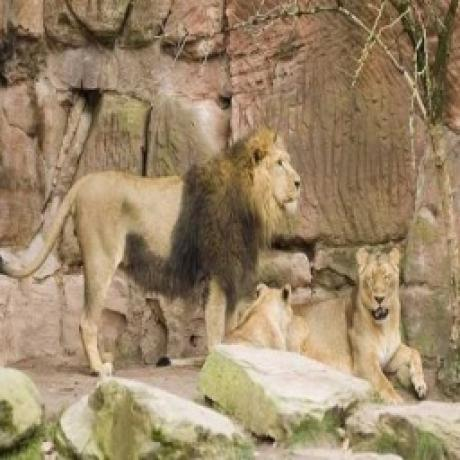Lion: (1, 123, 304, 368), (292, 242, 428, 407), (219, 277, 301, 363)
